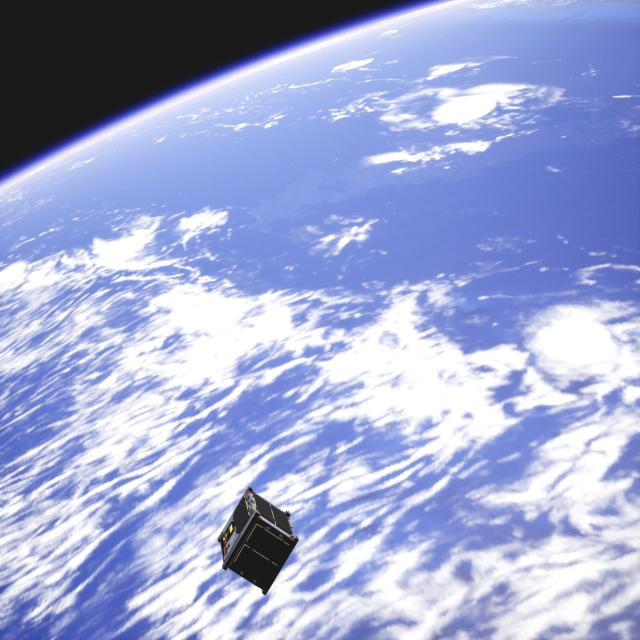medium_debris: (216, 488, 298, 600)
